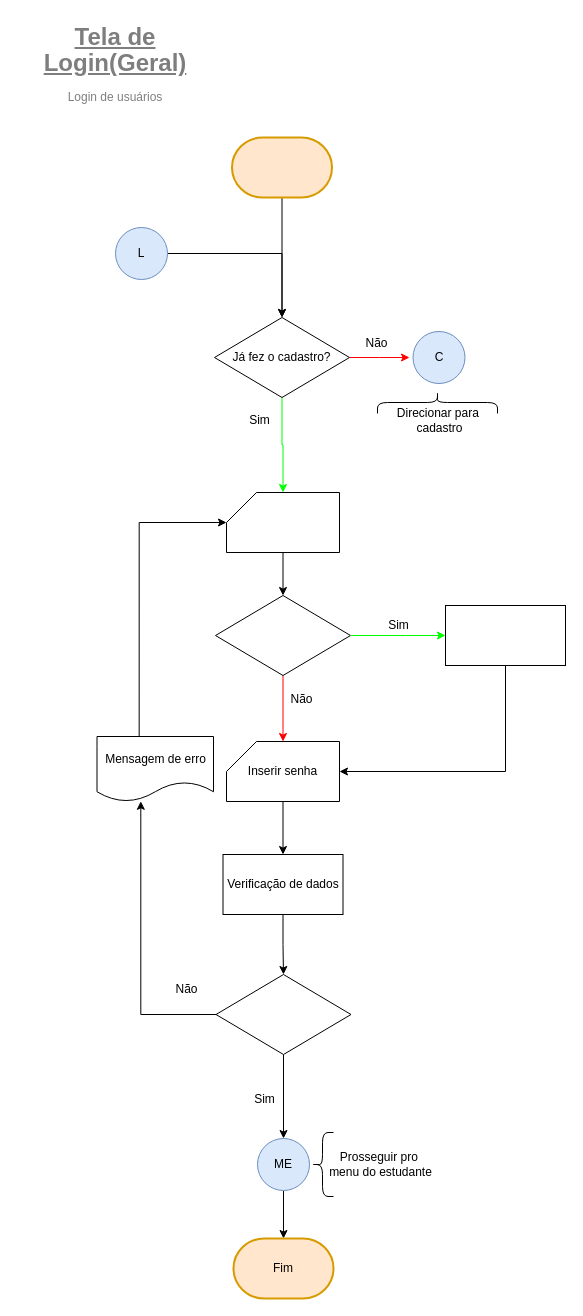
Image size: 583x1316. Some labels were removed from this diagram. Each missing label, with the centre of its shape:
"Dados coincidem?" belongs at point 283,1014.
"Enviar email para alteração de senha" belongs at point 505,635.
"Esqueceu senha?" belongs at point 282,635.
"Início" belongs at point 281,167.
"Nome de Usuário" belongs at point 283,522.
